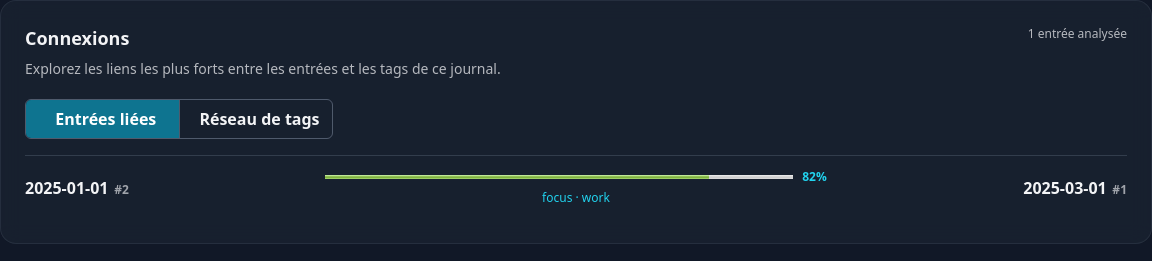
StatsCorrelationGraph › writes single counts in fr
Expected: the text "1 entrée analysée" is shown, [1028,25,1127,43]
Click the tab "Réseau de tags".
click(256, 119)  # box [179,100,332,138]
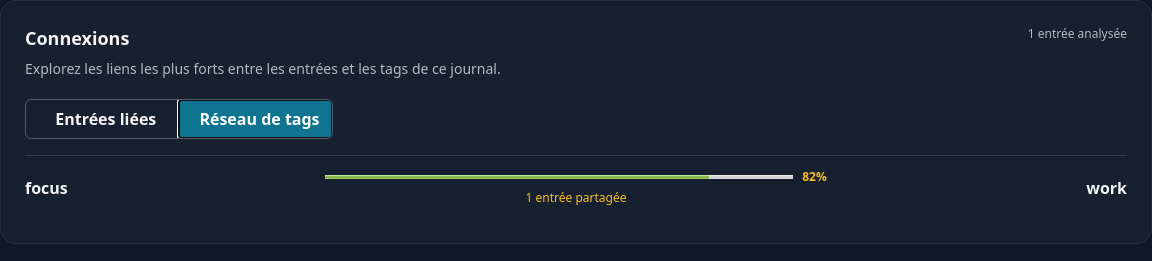
Expected: the text "1 entrée partagée" is shown, [526,189,626,206]
